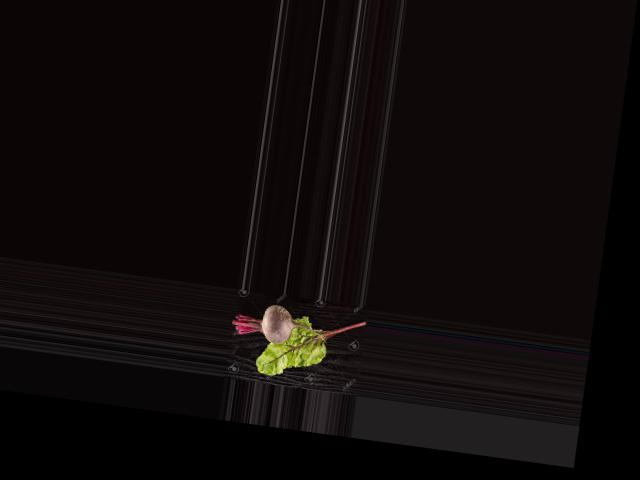beet: (229, 299, 329, 349)
